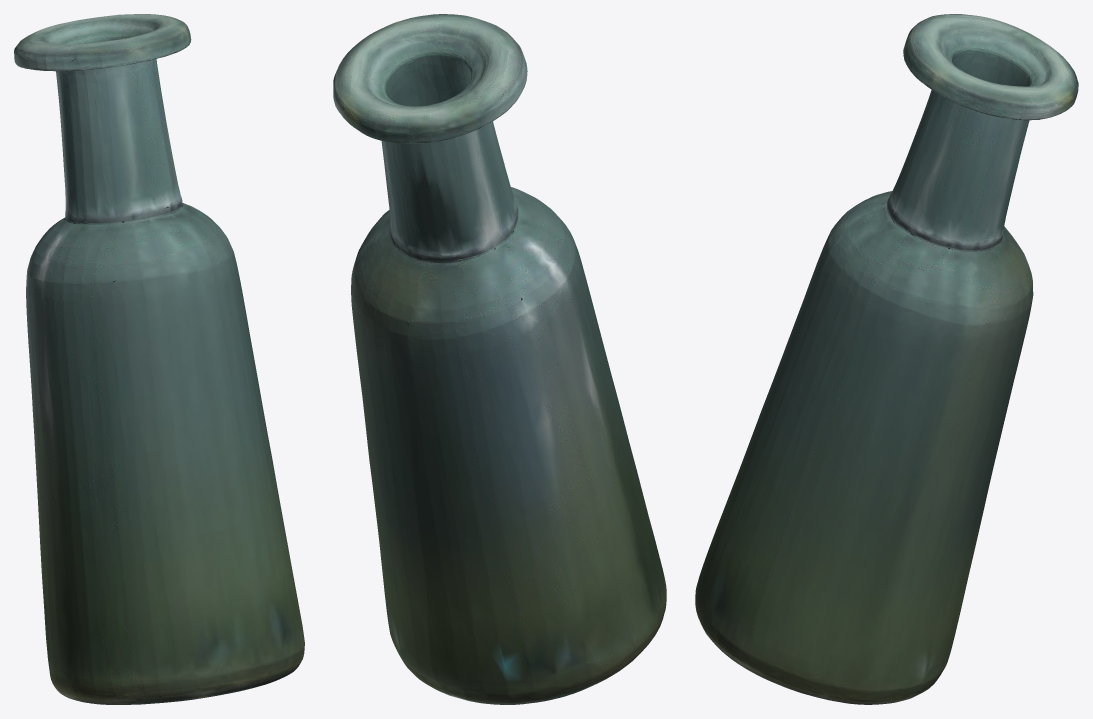
The model's file is blue_glass_vase_on_console_table_000.glb.
3 views of the same model, side by side, from view 1: azimuth 30°, elevation 25°; view 2: azimuth 150°, elevation 25°; view 3: azimuth 270°, elevation 25° (orthographic). The views are drawn at different scales.
Visible parts, largest first — view 1: blue_glass_vase_on_console_table_000.obj; view 2: blue_glass_vase_on_console_table_000.obj; view 3: blue_glass_vase_on_console_table_000.obj.
Part boxes in pixels (x1,y1,x2,y2): blue_glass_vase_on_console_table_000.obj: (14,14,304,704); blue_glass_vase_on_console_table_000.obj: (333,14,666,704); blue_glass_vase_on_console_table_000.obj: (695,14,1078,704).
Size of the model in its own units: 0.0647 by 0.173 by 0.0939.
Materials: 1 (1 with a texture image).
